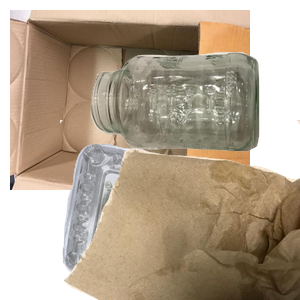cardboard: (10, 10, 250, 190)
glass: (88, 50, 300, 194)
plastic: (60, 141, 263, 300)
trash: (60, 120, 300, 300)
